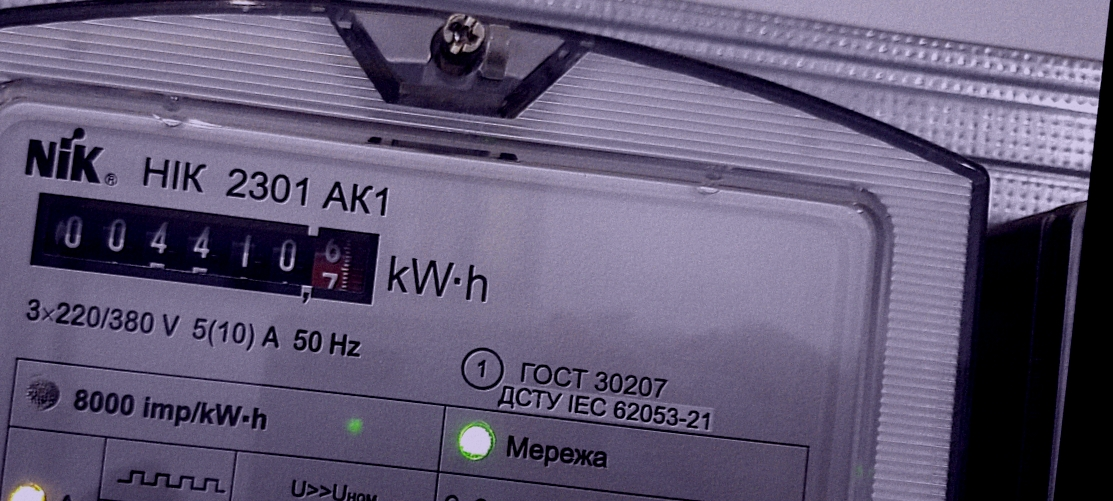0: (61, 211, 86, 251), (276, 236, 300, 274), (106, 214, 128, 254)
1: (237, 231, 254, 270)
4: (189, 222, 215, 263), (147, 216, 173, 256)
6: (324, 237, 344, 265)
7: (319, 269, 340, 291)
screen: (17, 179, 394, 318)
